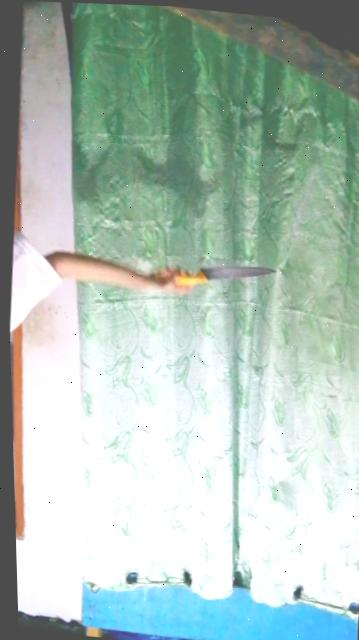long knife: (128, 249, 278, 295)
